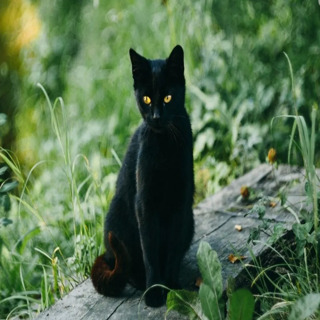gato: (113, 41, 204, 162)
